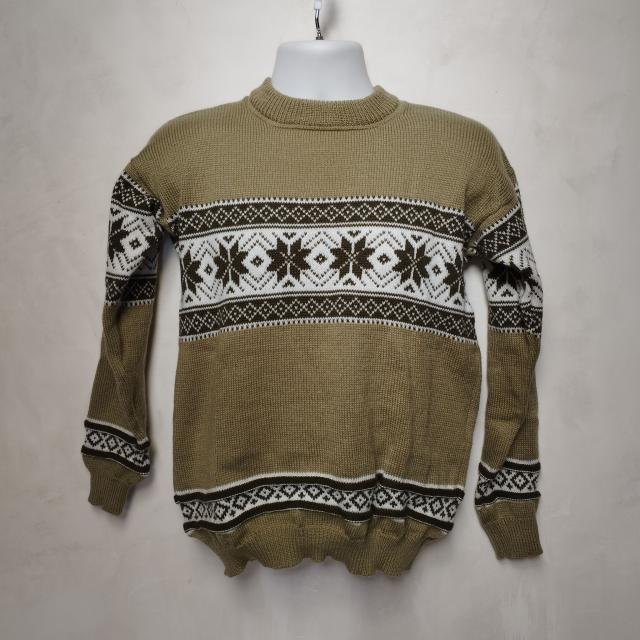Chompa: (82, 35, 545, 580)
